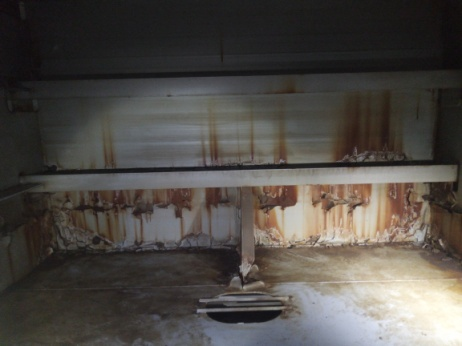corrosion: (327, 95, 408, 164), (39, 190, 125, 253), (0, 197, 38, 277), (384, 177, 429, 241), (428, 188, 462, 250), (129, 191, 197, 221), (308, 217, 379, 243), (306, 186, 373, 212), (193, 102, 221, 164), (92, 114, 120, 170), (237, 103, 260, 164), (197, 187, 239, 218), (270, 104, 290, 163), (259, 215, 295, 244), (250, 189, 298, 210)
